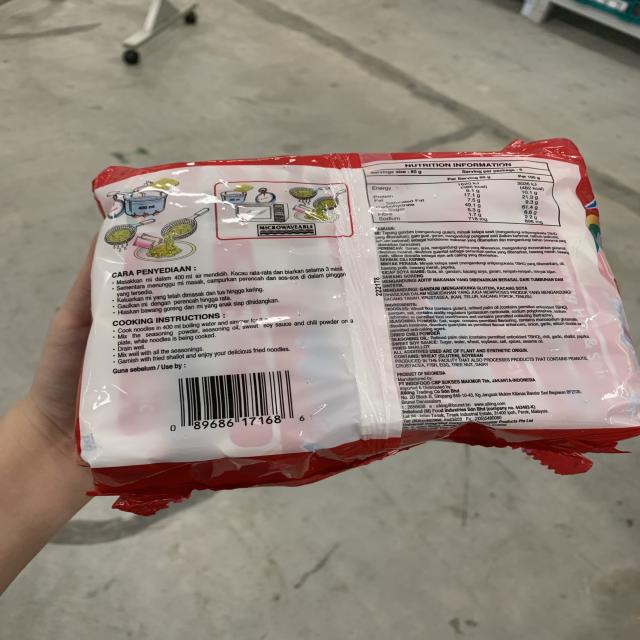object_name: (103, 172, 613, 451)
